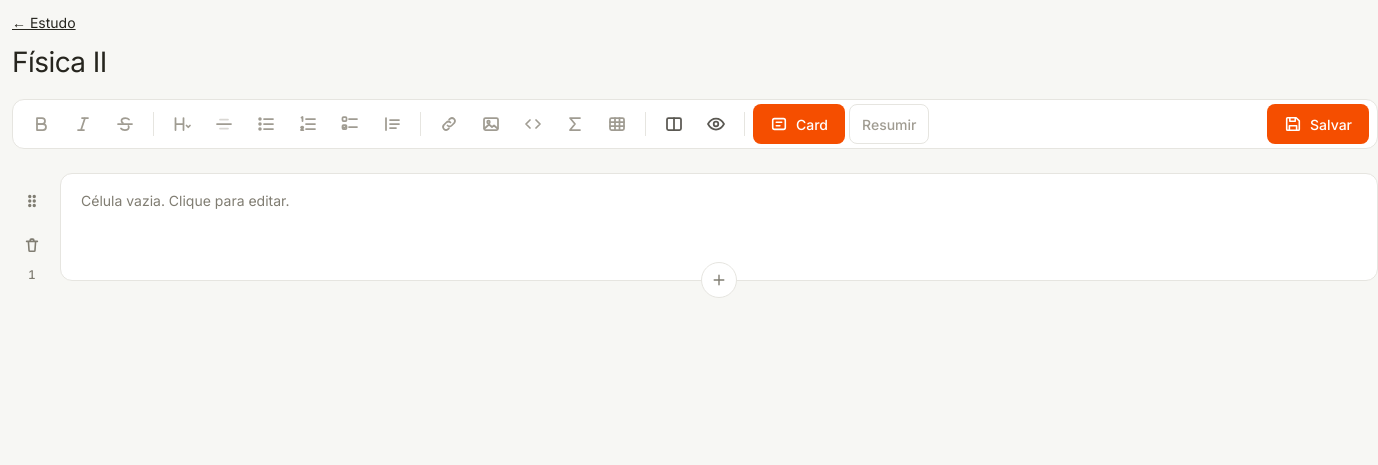
Test: EditorView — estrutura › abre e adiciona células sem crypto.randomUUID (http fora de localhost)
Expected: the number of elements "1 Célula vazia. Clique para editar." is 1, [12,165,1377,289]
Click the button named "Adicionar célula abaixo" at (719, 280), box [701,262,737,298]
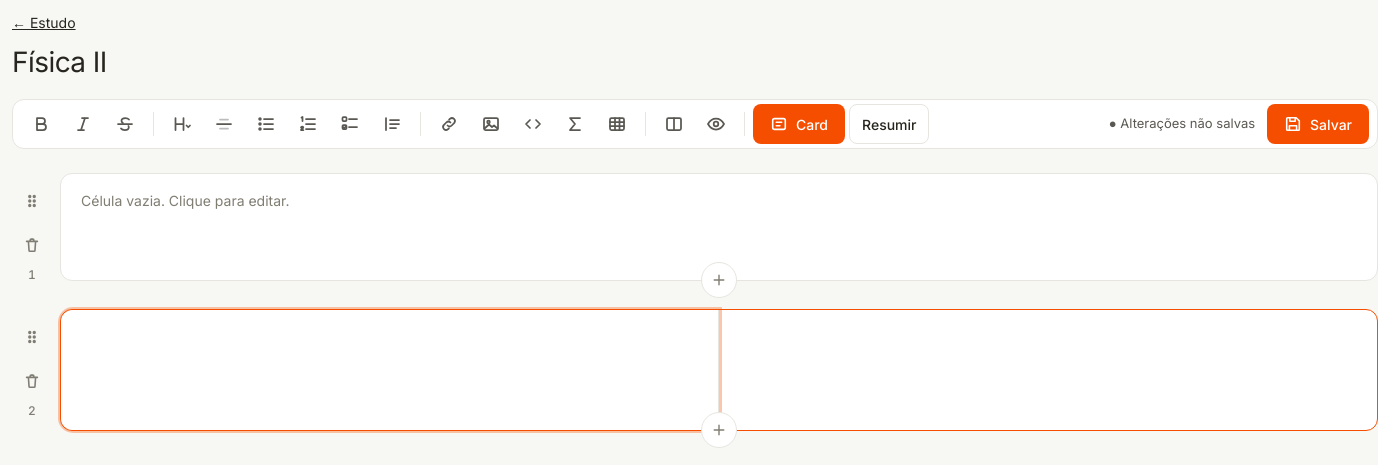
Expected: the number of elements "1 Célula vazia. Clique para editar." is 2, [12,165,1377,289]; [12,301,1377,439]
